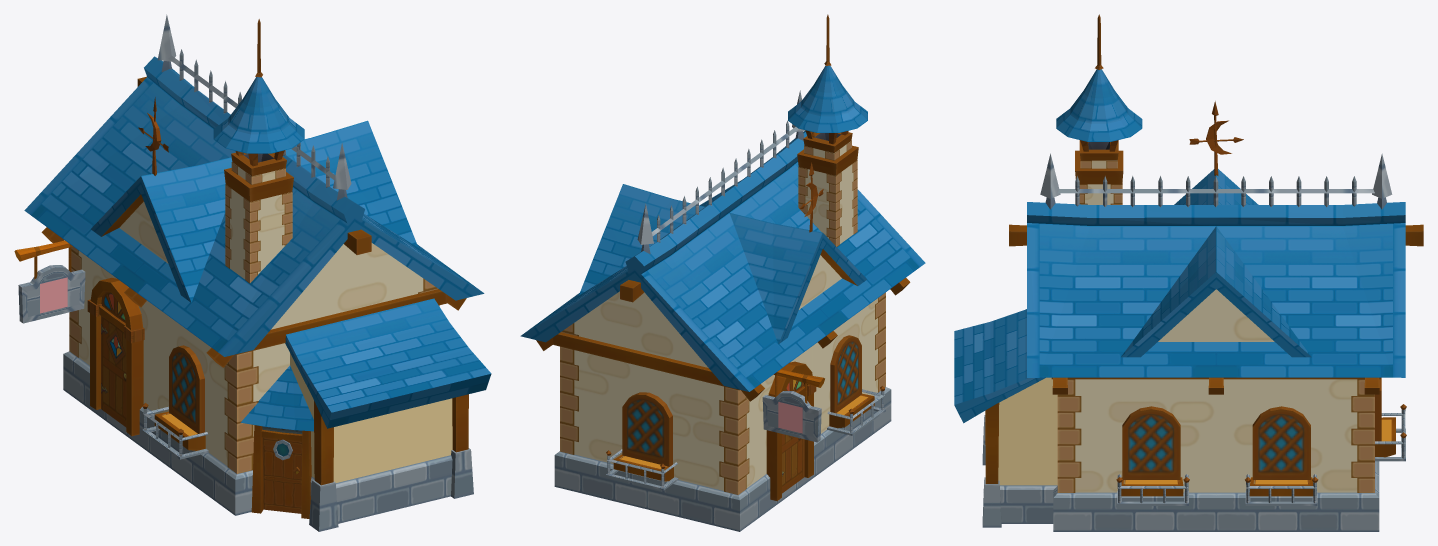
The model's file is HOS0110004.FBX.
The picture shows the model from 3 angles, left to right: view 1: azimuth 30°, elevation 25°; view 2: azimuth 150°, elevation 25°; view 3: azimuth 270°, elevation 25°; orthographic projection. The views are drawn at different scales.
Visible parts, largest first — view 1: smHOS0110004; view 2: smHOS0110004; view 3: smHOS0110004.
Part boxes in pixels (bbox=[...]): smHOS0110004: bbox=[14, 14, 491, 531]; smHOS0110004: bbox=[520, 14, 925, 531]; smHOS0110004: bbox=[954, 14, 1423, 531].
Size of the model in its own units: 7.49 by 10.93 by 10.5.
Materials: 1 (1 with a texture image).
